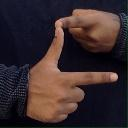hand: (25, 19, 118, 123), (55, 8, 120, 53)
